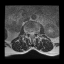CCS_normal: (31, 30, 32, 37)
LFS_normal: (34, 30, 36, 35)
LLS_normal: (33, 30, 34, 36)
RFS_normal: (27, 30, 29, 35)
RLS_normal: (29, 30, 31, 36)
